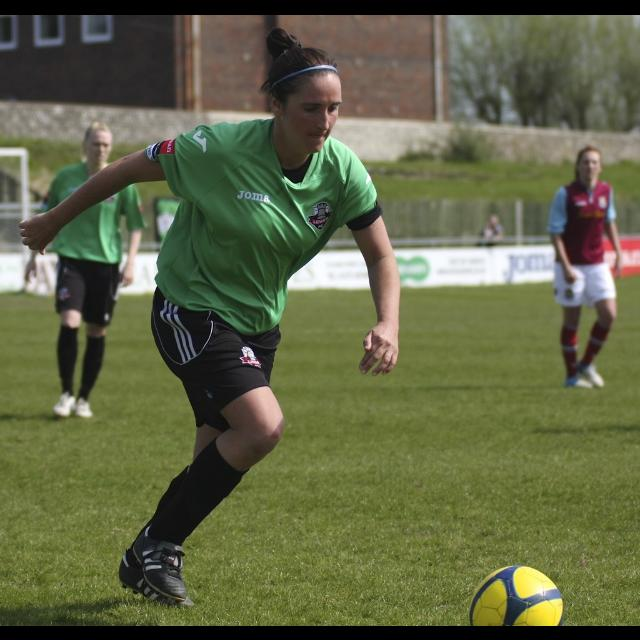Football: (469, 562, 567, 624)
